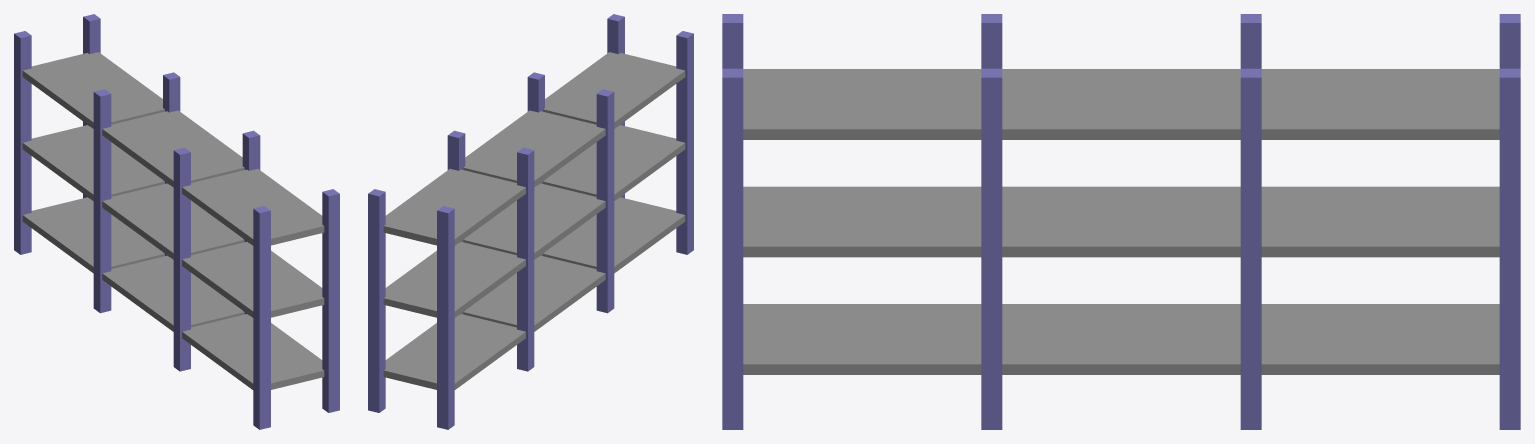
File: shelves-1.glb
3 renders of one model, left to right at view 1: azimuth 30°, elevation 25°; view 2: azimuth 150°, elevation 25°; view 3: azimuth 270°, elevation 25°, orthographic. The views are drawn at different scales.
Visible parts, largest first — view 1: shelf-1; view 2: shelf-1; view 3: shelf-1.
Part boxes in pixels (bbox=[...]): shelf-1: bbox=[14, 14, 339, 429]; shelf-1: bbox=[368, 14, 693, 429]; shelf-1: bbox=[722, 14, 1520, 429].
Size of the model in its own units: 2.32 by 6 by 12.32.
